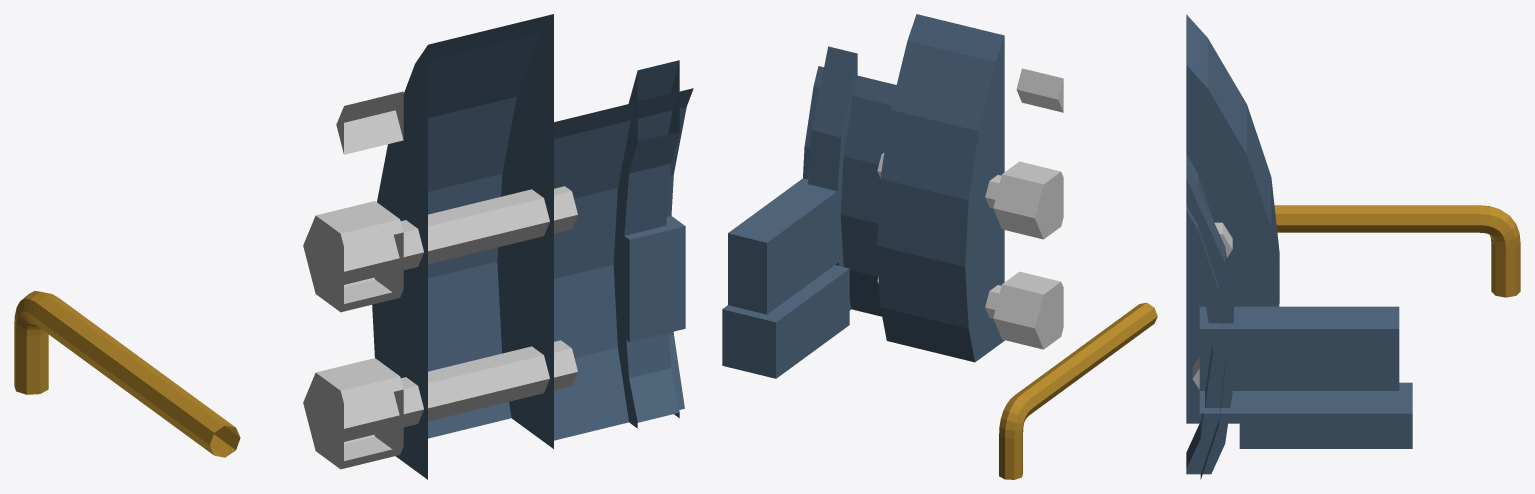
Rendered from cell_27.obj.
3 views of the same model, side by side, from view 1: azimuth 30°, elevation 25°; view 2: azimuth 150°, elevation 25°; view 3: azimuth 270°, elevation 25° (orthographic). The views are drawn at different scales.
Size of the model in its own units: 0.692 by 0.5947 by 0.502.
